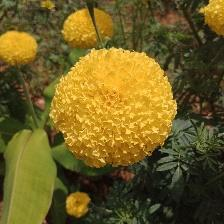marigold: (49, 47, 180, 171), (62, 4, 118, 46), (1, 29, 38, 66), (201, 1, 224, 40), (66, 191, 94, 218)
